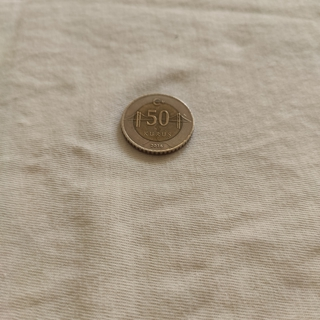50KURUS: (118, 92, 195, 156)
